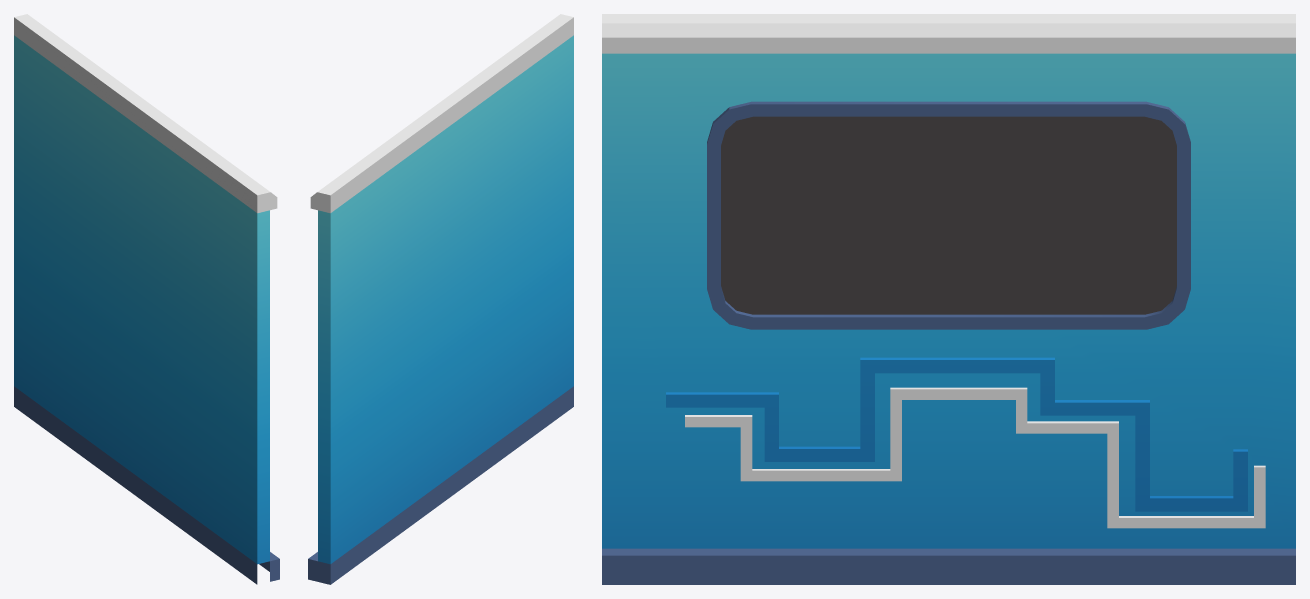
File: 5Wall_Straight_2.fbx
The picture shows the model from 3 angles, left to right: view 1: azimuth 30°, elevation 25°; view 2: azimuth 150°, elevation 25°; view 3: azimuth 270°, elevation 25°; orthographic projection. The views are drawn at different scales.
Parts seen in each view (by area): view 1: 5Wall_Straight_2; view 2: 5Wall_Straight_2; view 3: 5Wall_Straight_2.
Boxes of the visible parts, box(x1,y1,x2,y2) form: 5Wall_Straight_2: box(14, 14, 279, 584); 5Wall_Straight_2: box(308, 14, 573, 584); 5Wall_Straight_2: box(602, 14, 1295, 584).
Bounding box in the file's own units: 21.31 × 353 × 400.
